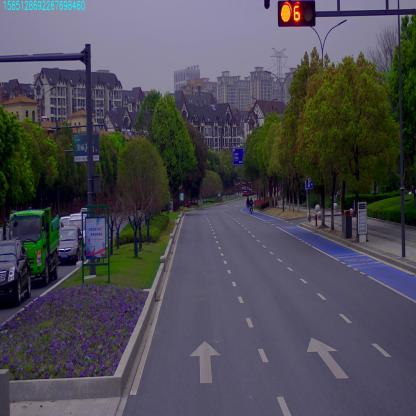traffic-light: (277, 4, 315, 26)
